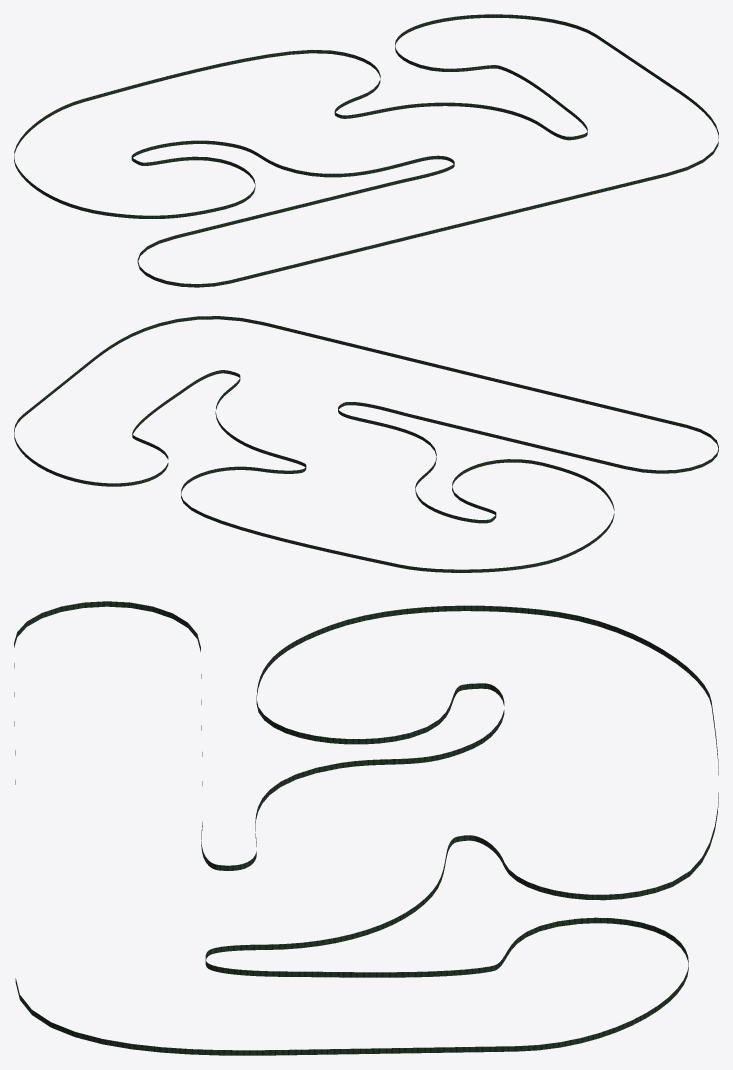
The model's file is cerca.obj.
3 renders of one model, top to bottom at view 1: azimuth 30°, elevation 25°; view 2: azimuth 150°, elevation 25°; view 3: azimuth 270°, elevation 25°, orthographic. The views are drawn at different scales.
Visible parts, largest first — view 1: Fence_Fence_0; view 2: Fence_Fence_0; view 3: Fence_Fence_0.
Boxes of the visible parts, x1,y1,x2,y2 form: Fence_Fence_0: [14, 14, 718, 287]; Fence_Fence_0: [14, 316, 718, 572]; Fence_Fence_0: [14, 601, 718, 1055].
Size of the model in its own units: 2750 by 15.62 by 1825.
